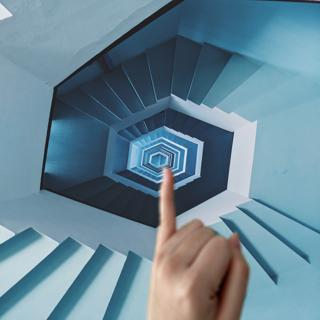FINE: (145, 165, 257, 320)
